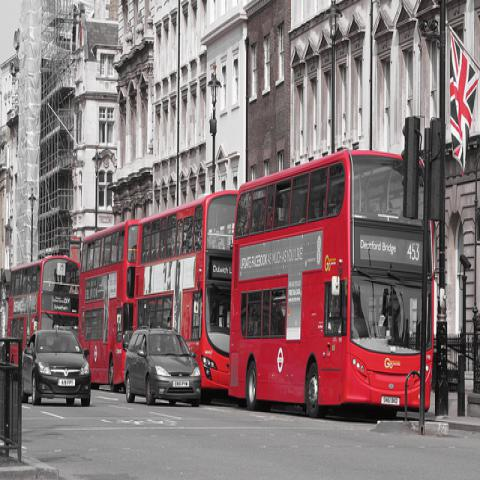bus: (226, 149, 433, 418), (132, 187, 238, 392), (77, 216, 138, 386), (6, 259, 80, 367)
car: (124, 327, 203, 408), (21, 330, 92, 411)
